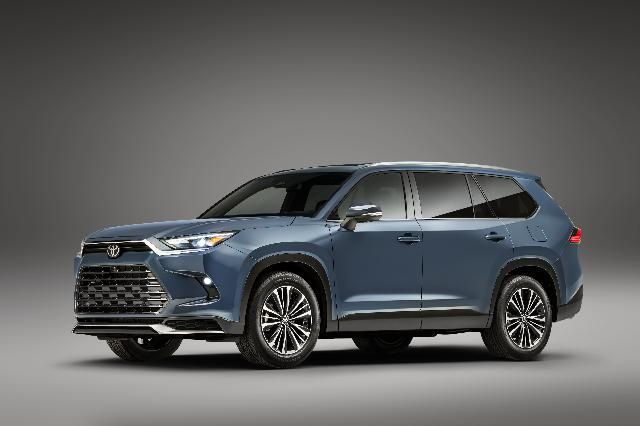toyota: (70, 161, 584, 369)
